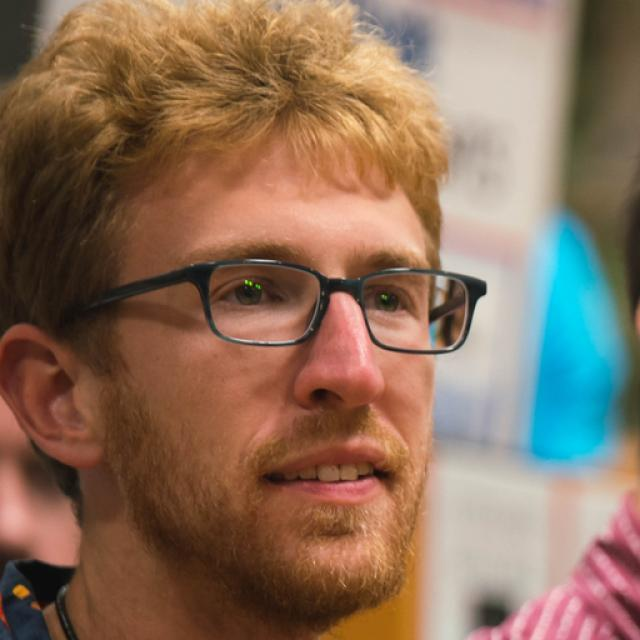disgust: (102, 147, 434, 604)
